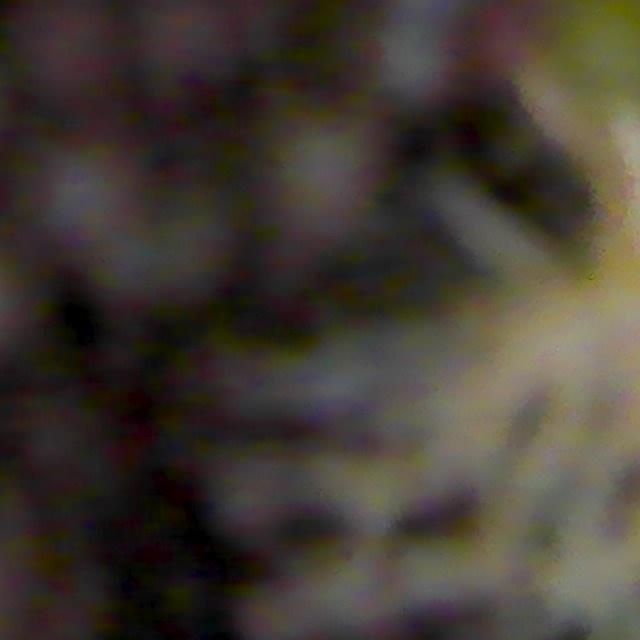SeaGrape: (266, 104, 387, 256), (122, 183, 243, 315), (112, 0, 254, 106), (32, 0, 135, 120), (32, 135, 142, 242), (368, 21, 462, 112)
